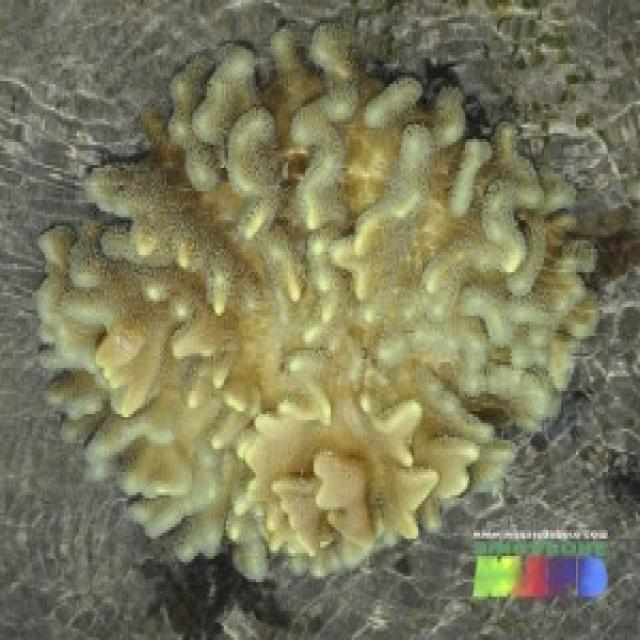Bleached: (40, 49, 604, 580)
